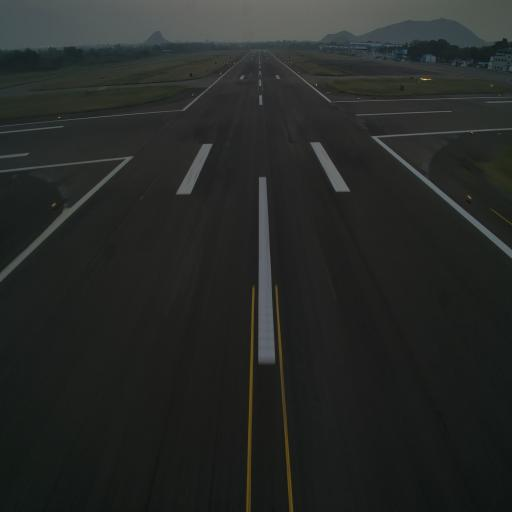on: (465, 190, 473, 202), (50, 198, 58, 210), (57, 113, 63, 120), (358, 96, 362, 101)
